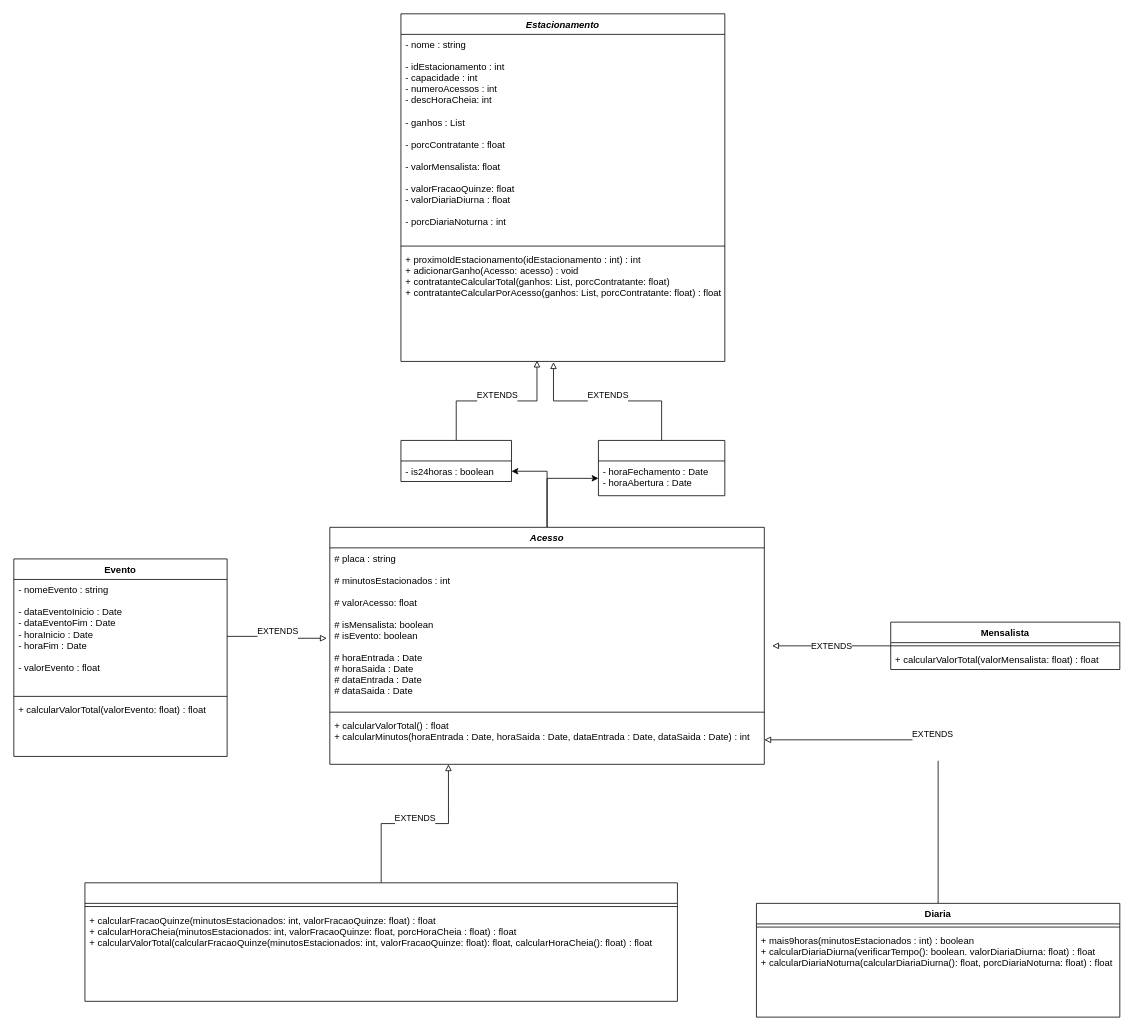
This 1134x1033 diagram has some shape labels left out. The shapes that lost their labels are listed below. From the top down, each one's box as (x1, y1, x2, y2) in pixels, then its label:
(400, 440, 512, 482): Estacionamento24h
(598, 440, 725, 496): EstacionamentoComum
(84, 882, 677, 1001): PorTempo
